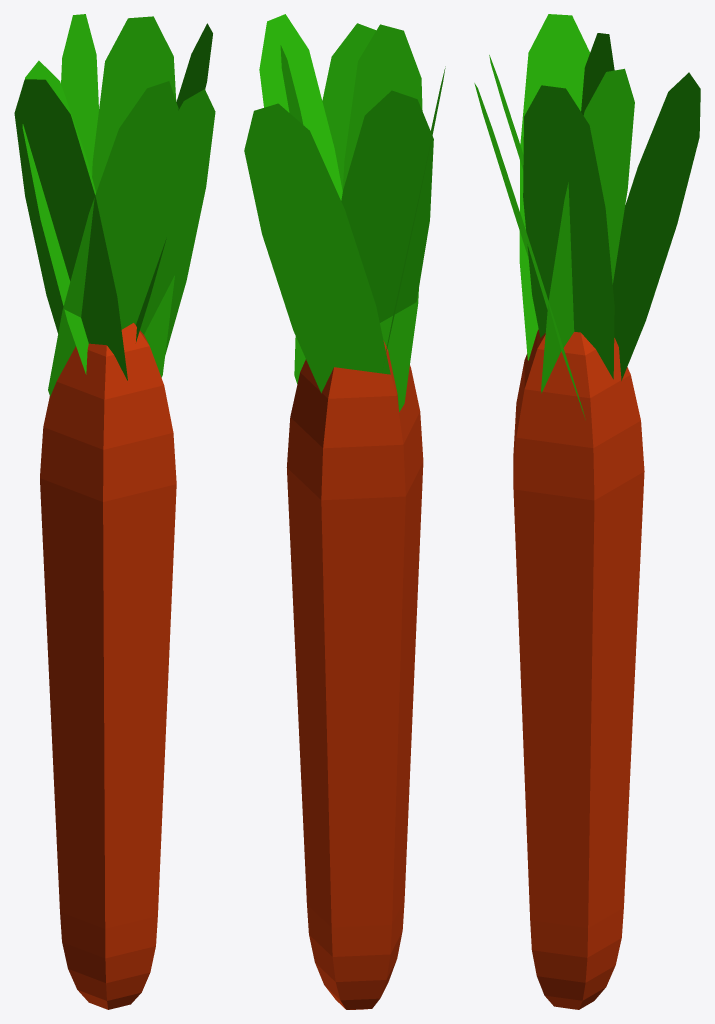
Rendered from carrot.obj.
The picture shows the model from 3 angles, left to right: view 1: azimuth 30°, elevation 25°; view 2: azimuth 150°, elevation 25°; view 3: azimuth 270°, elevation 25°; orthographic projection.
Visible parts, largest first — view 1: Cylinder, Plane.002; view 2: Cylinder, Plane.002; view 3: Cylinder, Plane.002.
Part boxes in pixels (box(x1,y1,x2,y2)): Cylinder: box(40, 323, 176, 1009); Plane.002: box(14, 14, 215, 396); Cylinder: box(286, 340, 423, 1009); Plane.002: box(244, 14, 445, 411); Cylinder: box(513, 329, 644, 1009); Plane.002: box(474, 14, 700, 419).
Bounding box in the file's own units: 0.225 × 1.15 × 0.2452.
